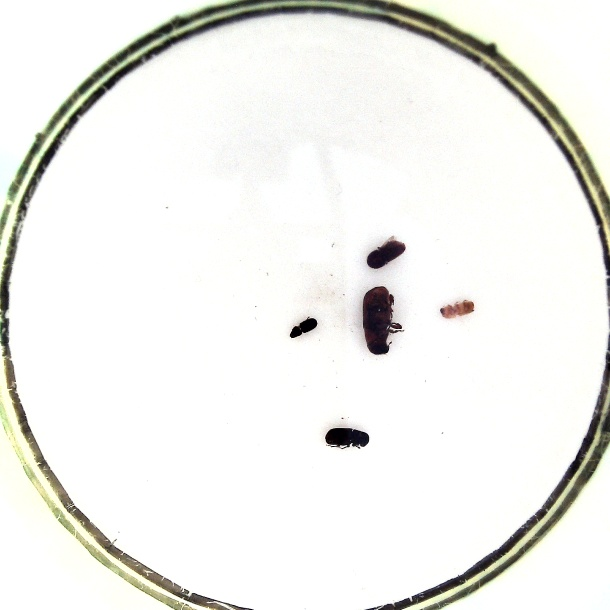acuminatus: (438, 297, 475, 319)
armandi: (322, 424, 371, 450)
coleoptera: (287, 315, 320, 339)
leconte: (361, 285, 403, 355)
linnaeus: (362, 233, 407, 270)
